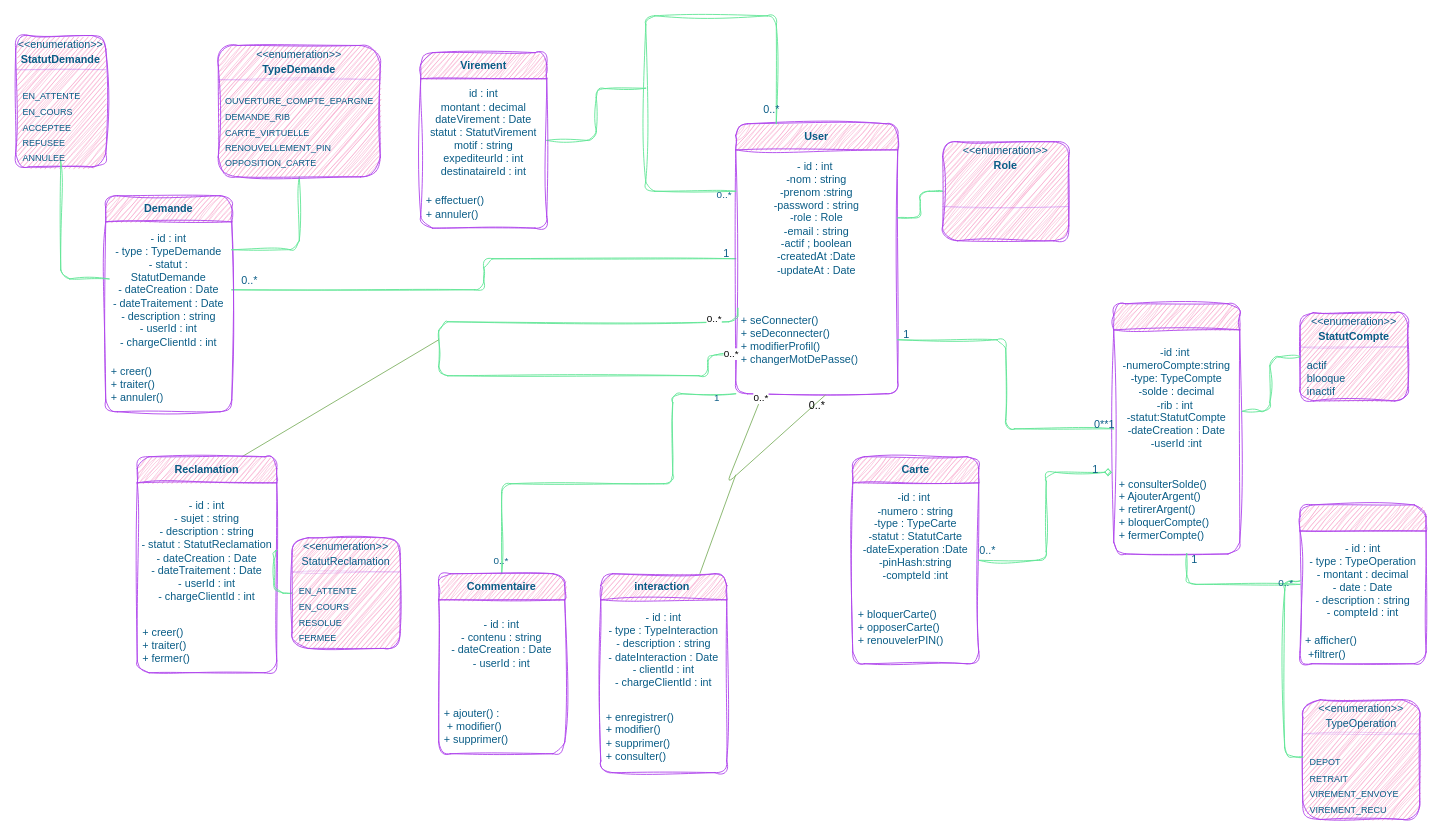
Some shapes in this 1442 by 835 pixel diagram are drawn without their labels. The box of each missing label's shape, as (x1, y1, x2, y2) in pixels:
client charge_client admin: (942, 141, 1069, 241)
CompteBancaire: (1113, 303, 1240, 554)
Historique: (1299, 504, 1426, 664)
